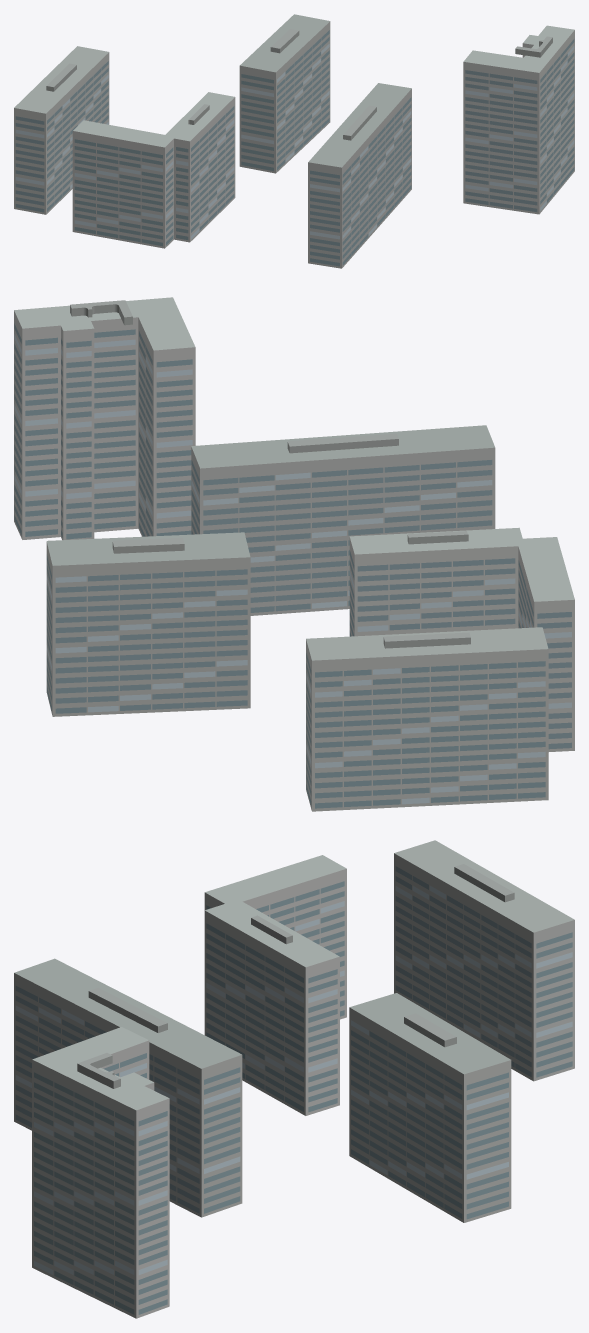
Rendered from apt-a13524004.glb.
3 views of the same model, one above another, from view 1: azimuth 30°, elevation 25°; view 2: azimuth 150°, elevation 25°; view 3: azimuth 270°, elevation 25° (orthographic). The views are drawn at different scales.
Visible parts, largest first — view 1: apt-a13524004; view 2: apt-a13524004; view 3: apt-a13524004.
Boxes of the visible parts, x1,y1,x2,y2 form: apt-a13524004: [14, 14, 574, 268]; apt-a13524004: [14, 297, 574, 811]; apt-a13524004: [14, 840, 574, 1318].
Bounding box in the file's own units: 218 × 66.45 × 156.
